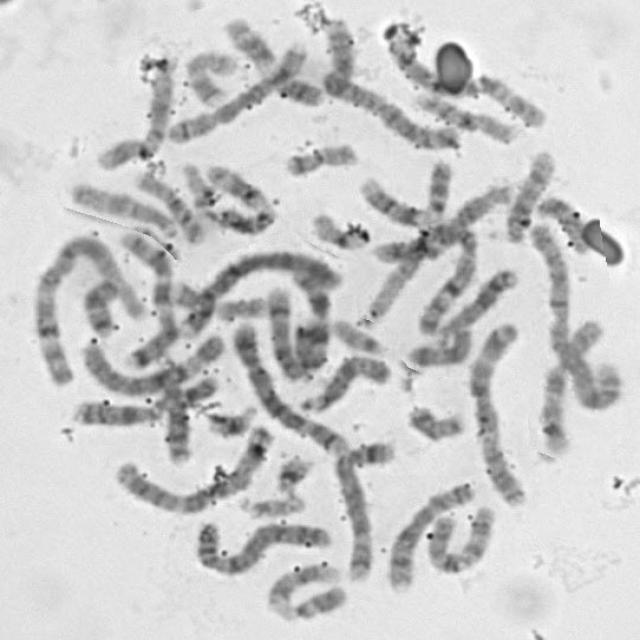A1: (25, 228, 144, 389), (374, 223, 492, 334)
A2: (314, 12, 468, 153), (524, 213, 626, 411)
A3: (108, 418, 278, 516), (463, 316, 531, 508)
B4: (174, 243, 347, 339), (189, 513, 334, 577)
B5: (227, 314, 351, 456), (329, 435, 397, 584)
C10: (532, 313, 607, 456), (422, 499, 499, 576)
C11: (220, 11, 327, 108), (198, 160, 279, 237)
C12: (367, 180, 514, 268), (92, 61, 178, 173)
C6: (384, 27, 538, 132), (76, 326, 229, 398)
C7: (113, 225, 181, 372), (284, 261, 336, 380)
C8: (162, 36, 310, 146), (379, 475, 478, 595)
C9: (354, 164, 457, 228), (261, 559, 347, 622)
D13: (431, 262, 520, 340), (144, 351, 196, 466)
D14: (499, 146, 558, 245), (261, 281, 302, 384)
D15: (62, 175, 180, 239), (293, 349, 393, 415)
E16: (412, 90, 524, 148), (128, 166, 209, 244)
E17: (163, 279, 270, 321), (180, 45, 240, 108)
E18: (404, 322, 477, 368), (77, 272, 123, 339)
F19: (306, 206, 373, 251), (183, 164, 215, 206)
F20: (280, 136, 361, 178), (401, 398, 469, 443)
G21: (201, 399, 260, 439), (270, 449, 316, 496)
G22: (327, 313, 387, 356), (234, 487, 308, 521)
X: (66, 370, 224, 429)
